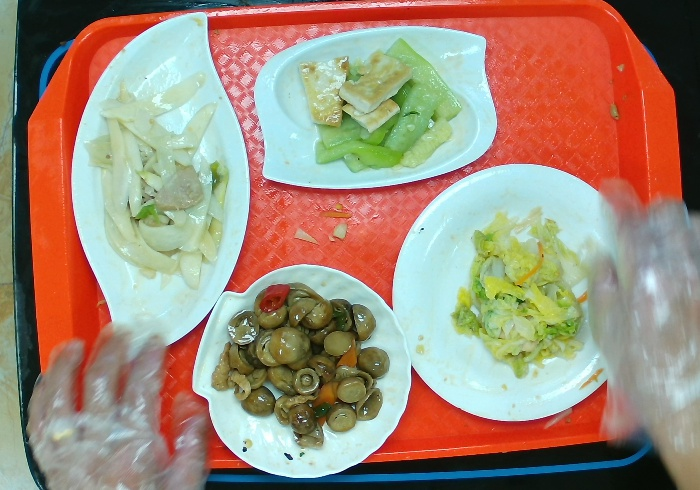RJxy-Bei_Ke_Wan: (187, 257, 414, 484)
RJxy-Jian_Jiao_Fang_Die: (249, 19, 503, 194)
RJxy-Jian_Jiao_Pan: (64, 8, 255, 367)
RJxy-Yuan_Pan: (388, 160, 636, 430)
